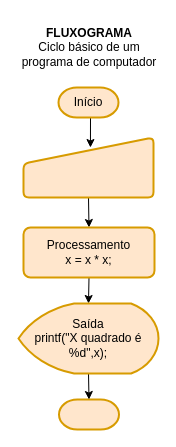
This 176x447 diagram has some shape labels left out. The centre of each missing label's shape, as x and y in pixels:
Entrada scanf("%d",variavel);: point 88,167
Fim: point 89,414
